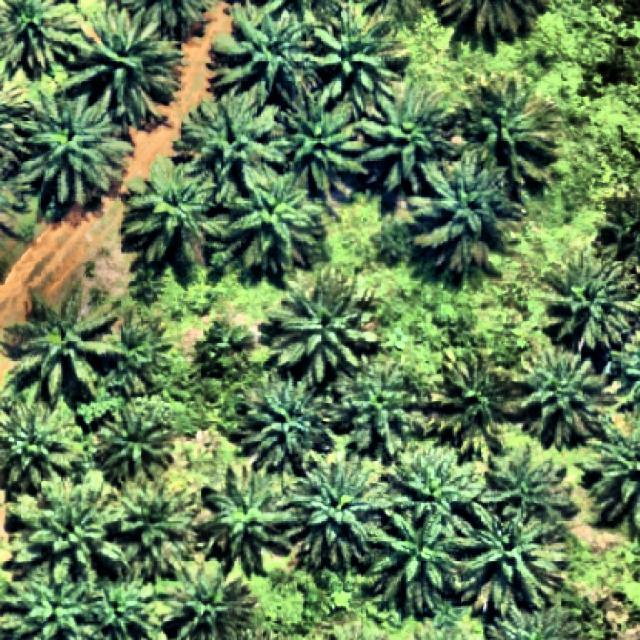Kelapa_Sawit: (60, 6, 188, 132), (16, 85, 135, 208), (5, 284, 124, 406), (411, 152, 527, 274), (176, 88, 286, 208), (8, 478, 128, 588), (120, 150, 228, 270), (456, 502, 570, 615), (272, 270, 381, 387), (358, 76, 456, 202), (368, 507, 480, 616), (422, 340, 518, 465), (207, 3, 321, 108), (290, 455, 392, 571), (462, 71, 560, 191), (200, 462, 296, 578), (314, 0, 408, 114), (231, 162, 326, 273), (238, 373, 338, 476), (519, 343, 613, 448), (273, 94, 369, 191), (393, 448, 484, 547), (476, 442, 576, 532), (338, 354, 420, 460), (118, 478, 200, 576), (100, 398, 172, 486), (106, 309, 174, 383)
